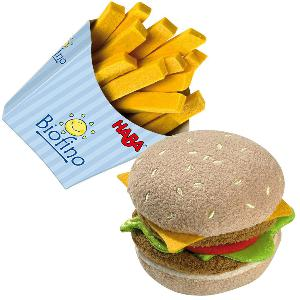cheeseburger: (128, 134, 292, 297)
fries: (94, 4, 215, 135)
